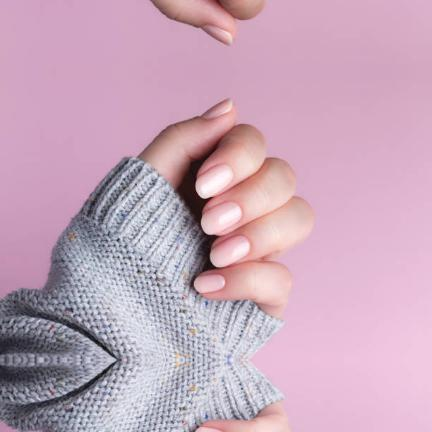Nail: (201, 201, 242, 236), (195, 164, 234, 199), (210, 236, 250, 268), (201, 98, 232, 120), (201, 24, 232, 46), (194, 275, 225, 292), (195, 428, 223, 432)
